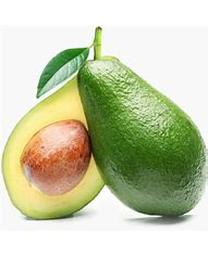avocado: (76, 55, 207, 216), (0, 66, 117, 221)
